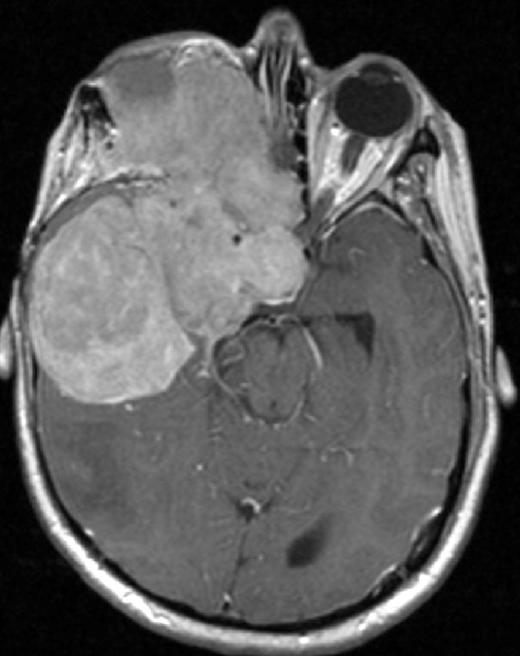Tumour-Meningioma: (1, 1, 348, 436)
